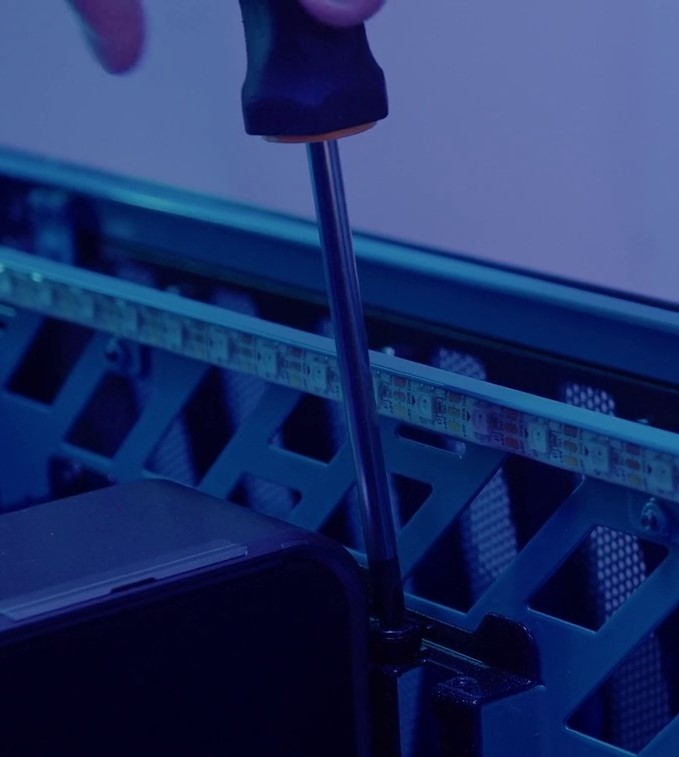screwdriver: (222, 1, 423, 625)
